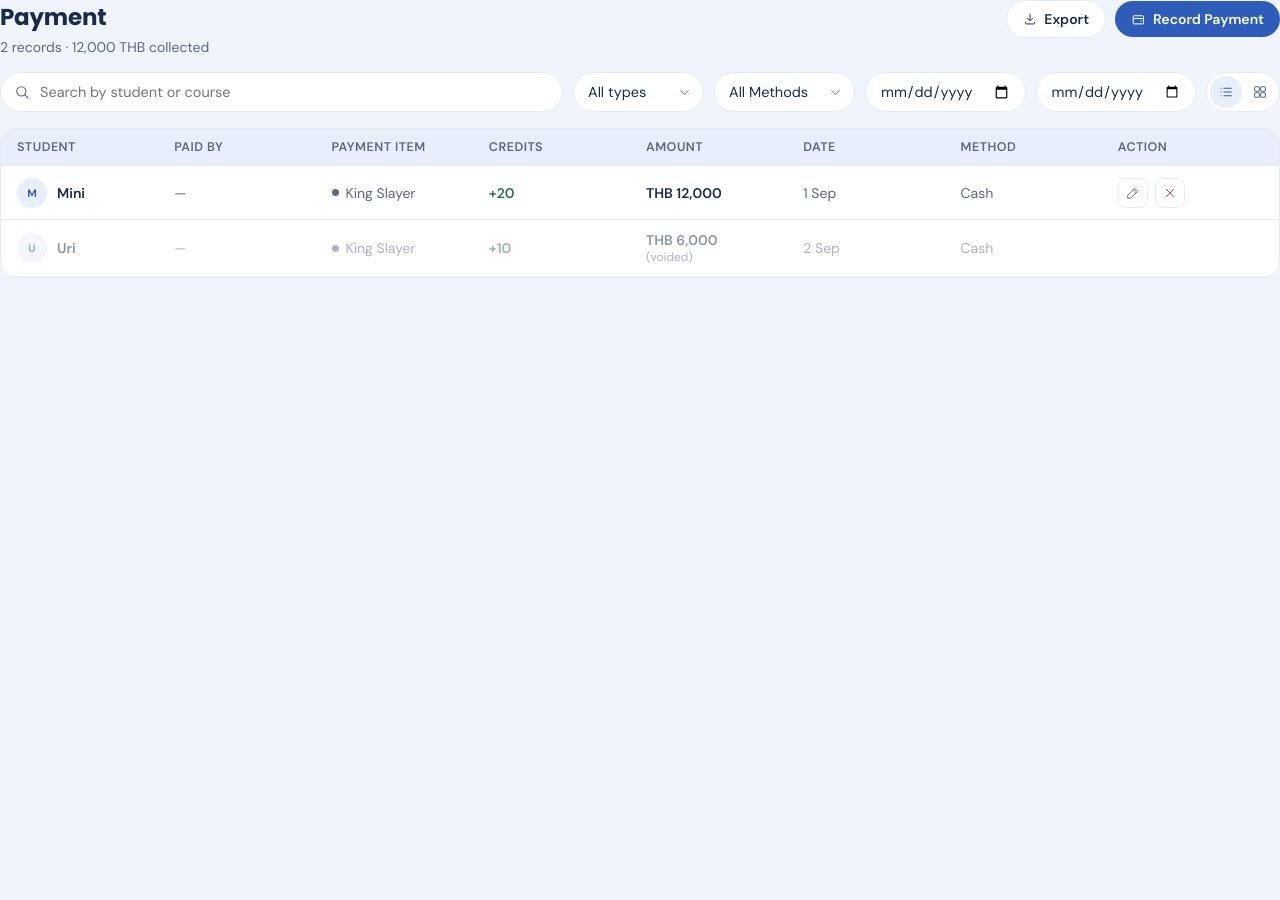
the Payments page › offers an admin Void beside Edit, and nothing on a voided payment
This screenshot has width=1280, height=900.
Expected: the text "(voided)" is shown, [646,249,693,265]
Click the button named "Void ". click: (1170,192)
box: [1155,178,1185,208]
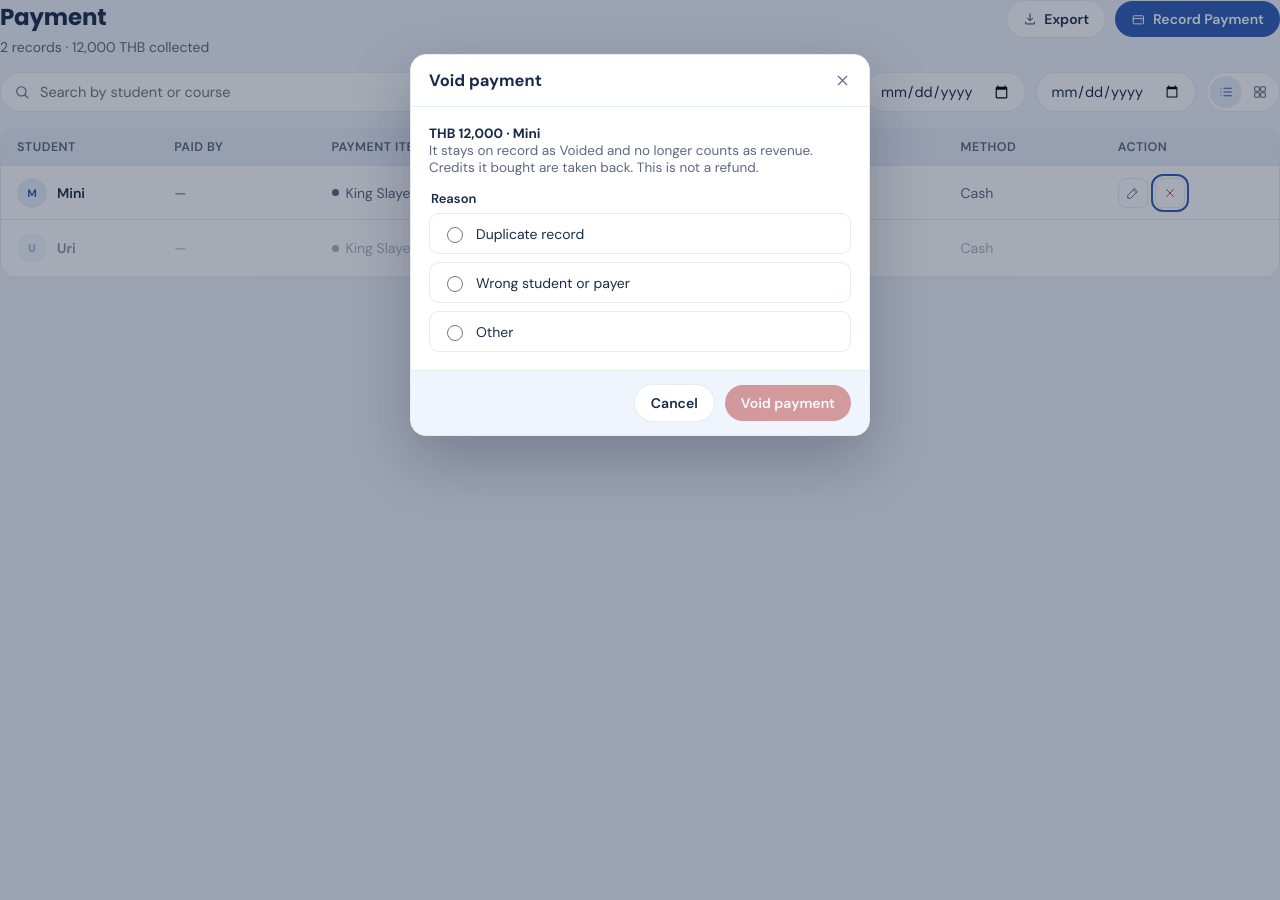
Now the radio button labelled "Duplicate record" is shown, box [447,227,463,243]
Now the button "Void payment" is shown, box [725,385,851,421]
